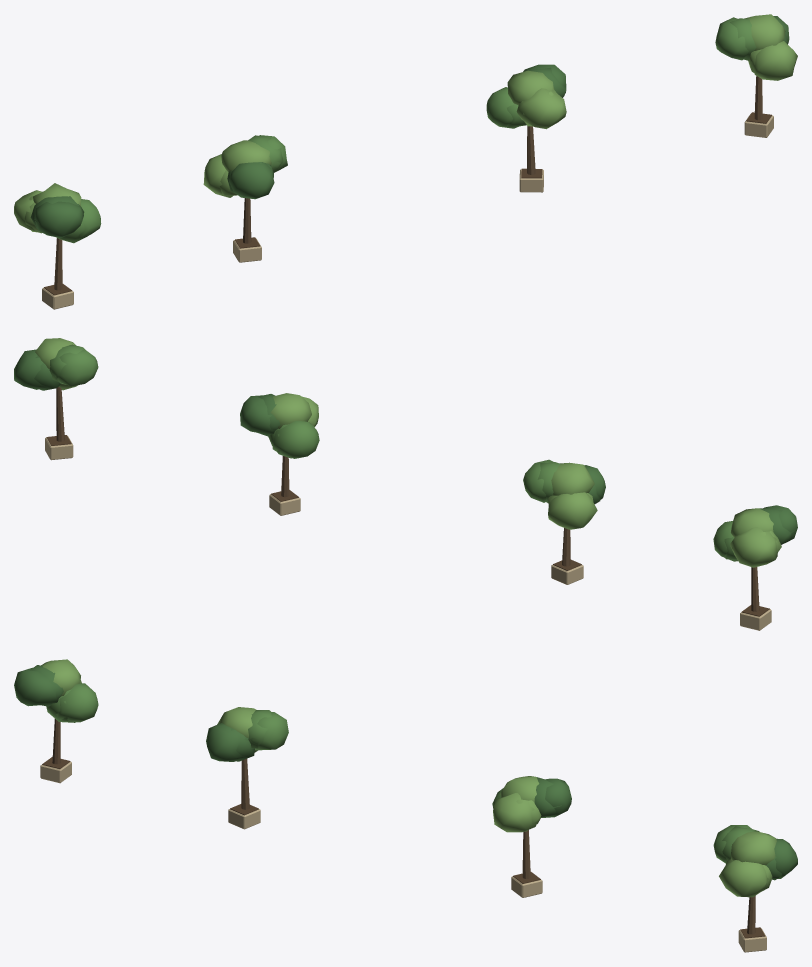
The model's file is trees.glb.
3 views of the same model, one above another, from view 1: azimuth 30°, elevation 25°; view 2: azimuth 150°, elevation 25°; view 3: azimuth 330°, elevation 25° (orthographic).
Visible parts, largest first — view 1: tree_2, tree_1, tree_3, tree_0; view 2: tree_1, tree_2, tree_0, tree_3; view 3: tree_3, tree_0, tree_1, tree_2.
Boxes of the visible parts, x1=… form: tree_2: x1=486, y1=64, x2=566, y2=192; tree_1: x1=203, y1=135, x2=287, y2=262; tree_3: x1=715, y1=14, x2=797, y2=137; tree_0: x1=14, y1=183, x2=101, y2=309; tree_1: x1=523, y1=459, x2=605, y2=584; tree_2: x1=240, y1=393, x2=319, y2=515; tree_0: x1=713, y1=505, x2=797, y2=630; tree_3: x1=14, y1=338, x2=98, y2=460; tree_3: x1=713, y1=825, x2=797, y2=952; tree_0: x1=14, y1=659, x2=98, y2=783; tree_1: x1=206, y1=707, x2=288, y2=829; tree_2: x1=492, y1=776, x2=571, y2=897.
Size of the model in its own units: 40.4 by 5.75 by 4.2.
